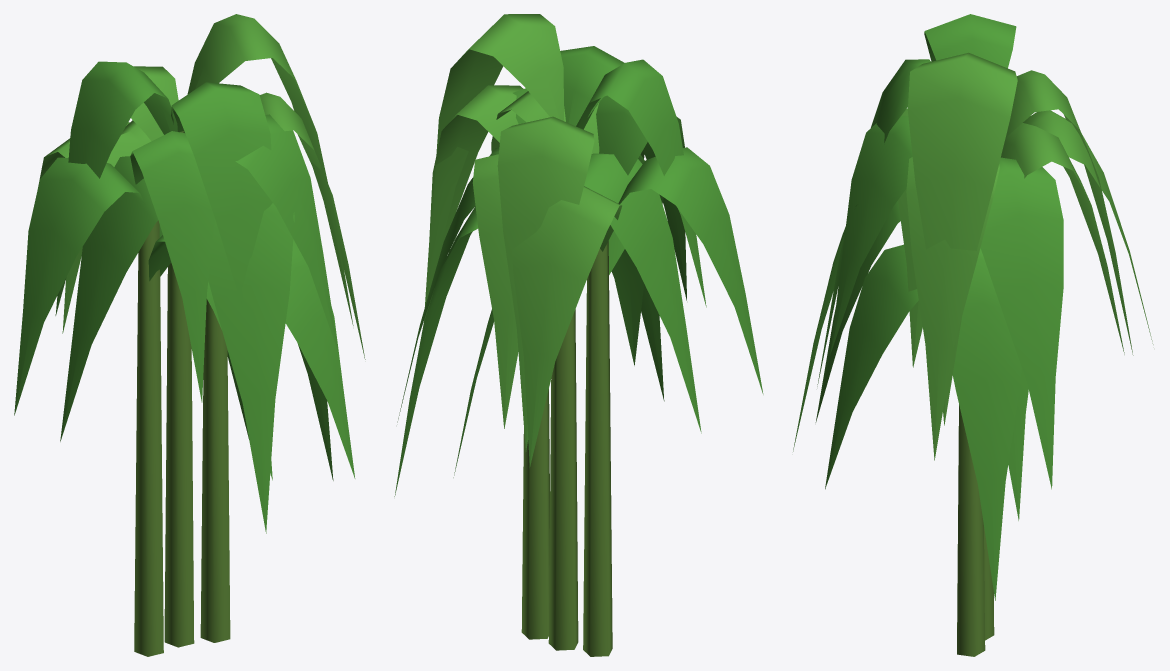
Rendered from plant_banana-b.glb.
3 views of the same model, side by side, from view 1: azimuth 30°, elevation 25°; view 2: azimuth 150°, elevation 25°; view 3: azimuth 270°, elevation 25° (orthographic).
Visible parts, largest first — view 1: plant_banana-b; view 2: plant_banana-b; view 3: plant_banana-b.
Boxes of the visible parts, left/top/right/bottom form: plant_banana-b: left=14, top=14, right=365, bottom=656; plant_banana-b: left=394, top=14, right=763, bottom=656; plant_banana-b: left=793, top=14, right=1153, bottom=656.
Size of the model in its own units: 0.8907 by 1.5 by 0.8107.
